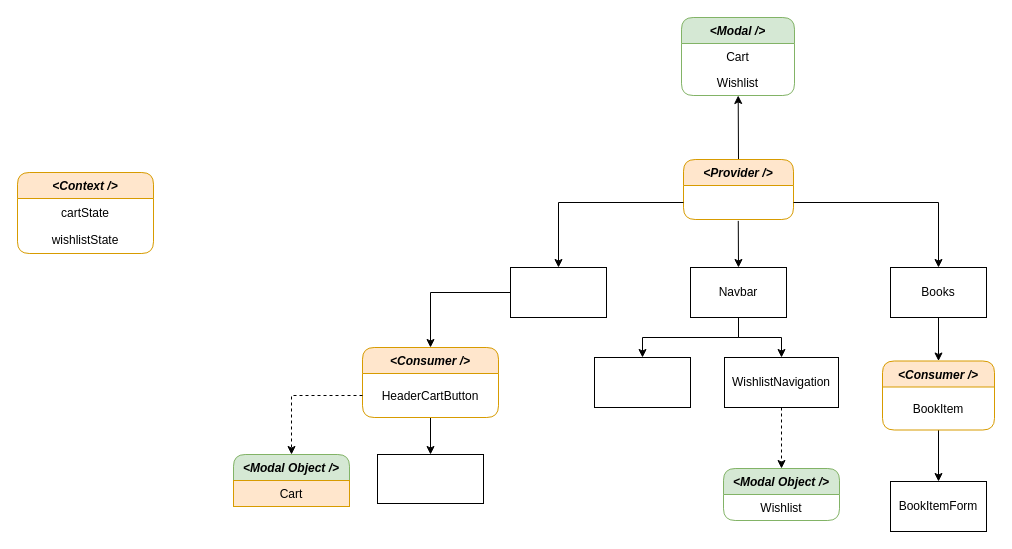
The diagram is 1012 pixels wide and 549 high, and some of its shapes have lost their labels. Here are the shapes that lost their labels. From the top down, the centre of each, then its label:
At [738,189]: "App".
At [558,292]: "Header".
At [642,382]: "CategoryFilter".
At [430,479]: "CartIcon".
